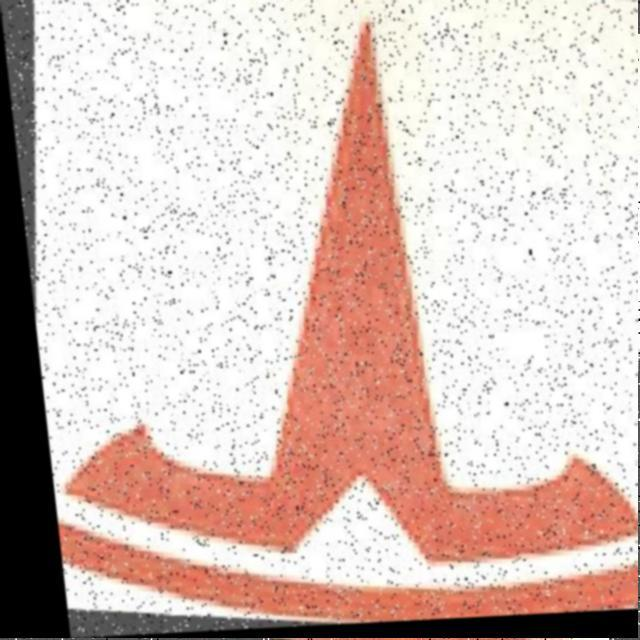Tesla: (0, 0, 638, 638)
